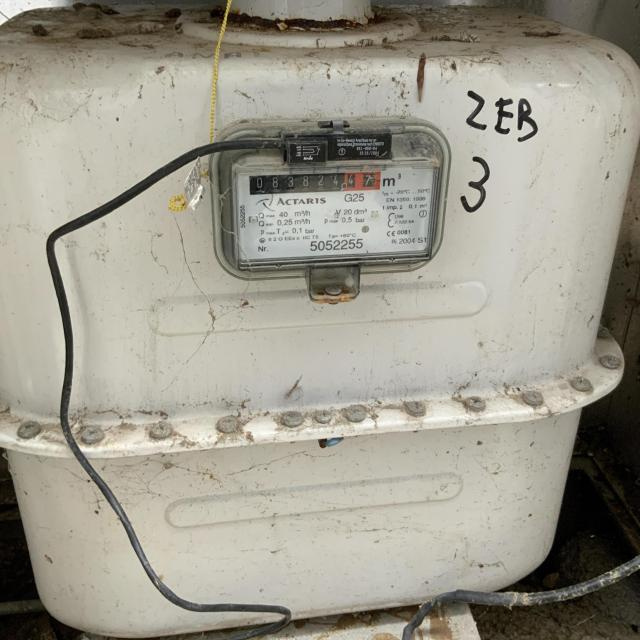gaz_meter: (235, 163, 438, 264)
indication: (249, 172, 381, 195)
